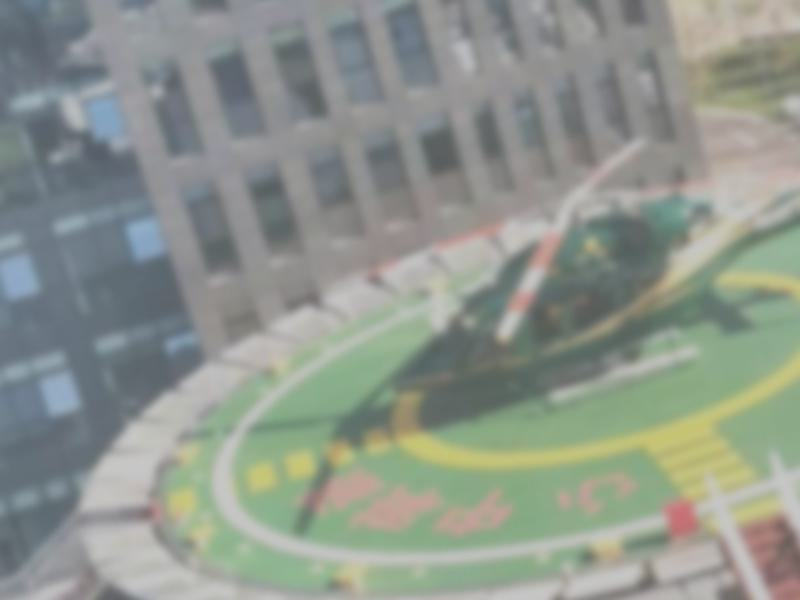Apron: (393, 232, 800, 469)
